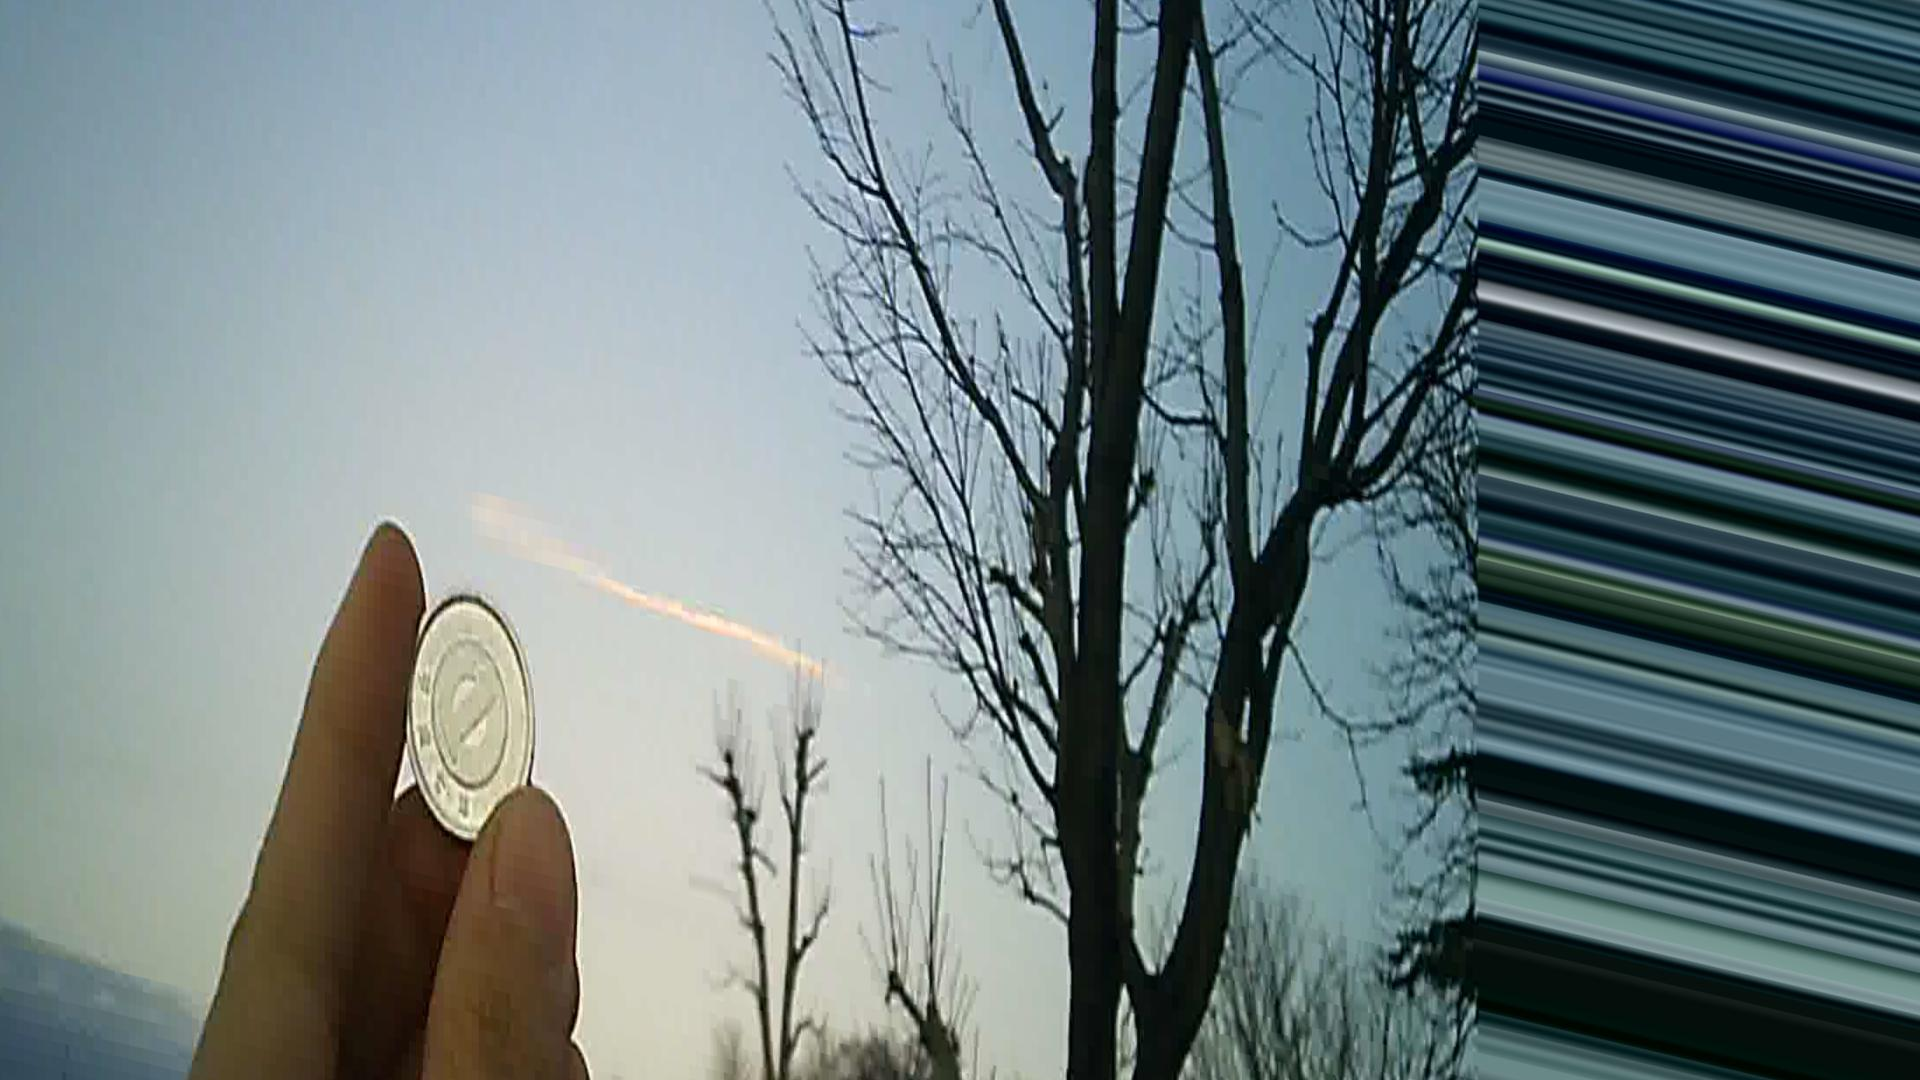1 Yen: (368, 580, 547, 841)
